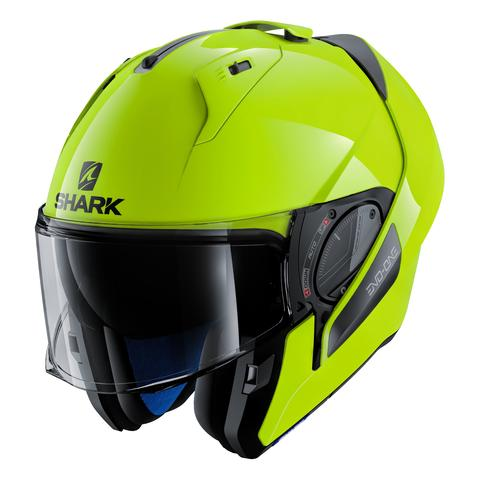with_helmet: (30, 14, 450, 460)
